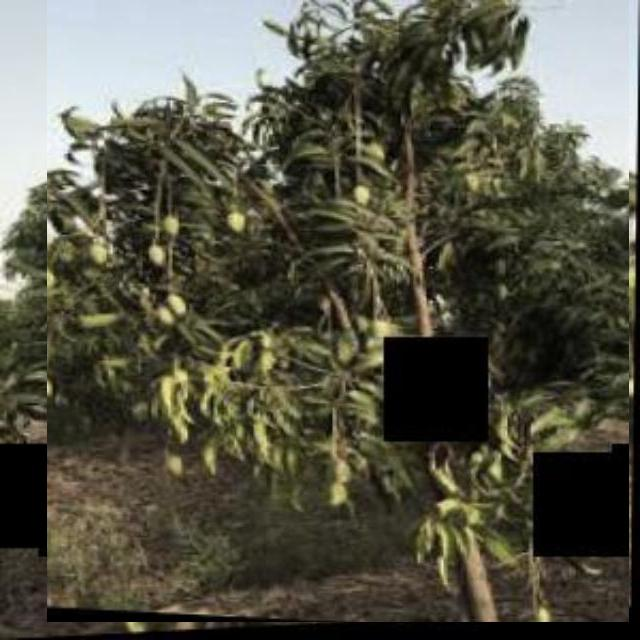tree: (47, 0, 629, 622)
